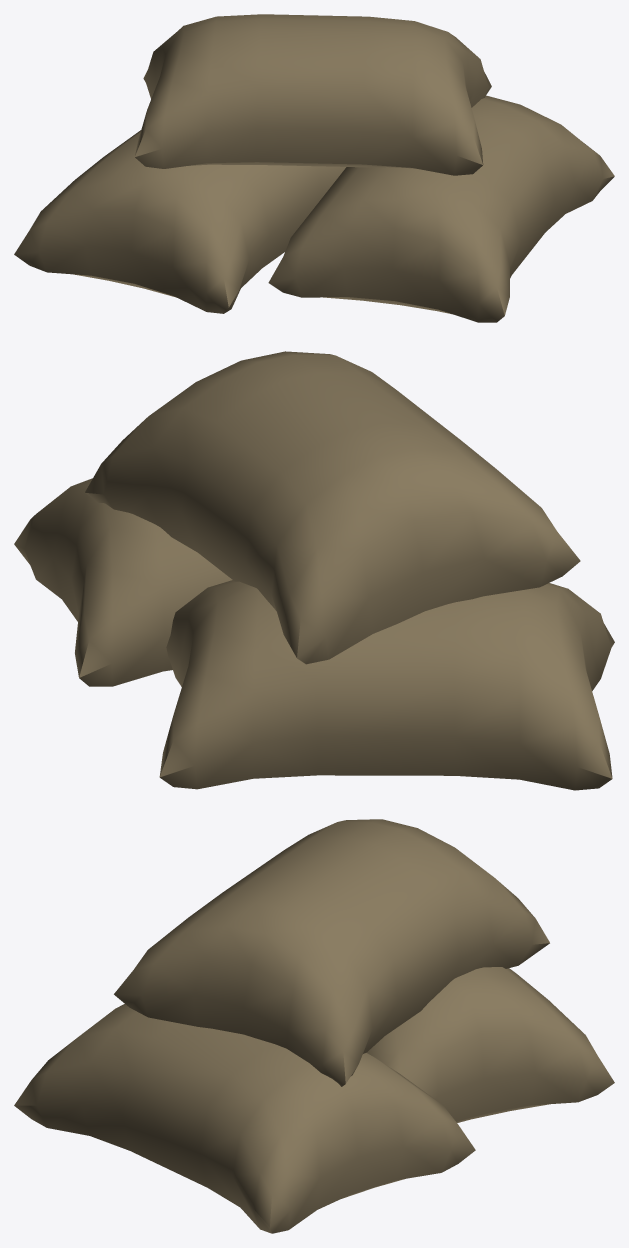
File: bags.glb
The picture shows the model from 3 angles, top to bottom: view 1: azimuth 30°, elevation 25°; view 2: azimuth 150°, elevation 25°; view 3: azimuth 270°, elevation 25°; orthographic projection. The views are drawn at different scales.
Parts seen in each view (by area): view 1: Bags; view 2: Bags; view 3: Bags.
Boxes of the visible parts, <box> form: Bags: <box>14,14,614,322</box>; Bags: <box>14,351,614,790</box>; Bags: <box>14,819,614,1233</box>.
Bounding box in the file's own units: 0.2697 × 0.1071 × 0.2392.
